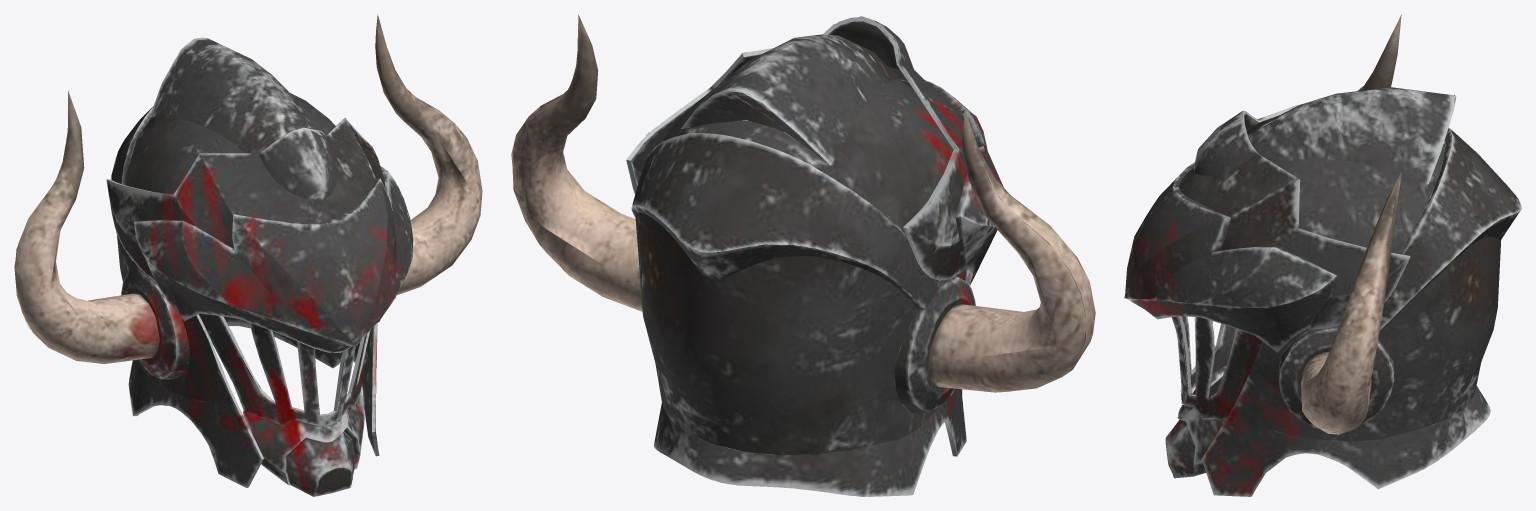
Rendered from helm_horned.glb.
The picture shows the model from 3 angles, left to right: view 1: azimuth 30°, elevation 25°; view 2: azimuth 150°, elevation 25°; view 3: azimuth 270°, elevation 25°; orthographic projection. The views are drawn at different scales.
Parts seen in each view (by area): view 1: objdefault__0; view 2: objdefault__0; view 3: objdefault__0.
Part boxes in pixels (x1,y1,x2,y2): objdefault__0: (14,14,482,496); objdefault__0: (511,14,1095,496); objdefault__0: (1124,14,1521,496).
Size of the model in its own units: 7.4 by 5.57 by 5.31.
Materials: 1 (1 with a texture image).
